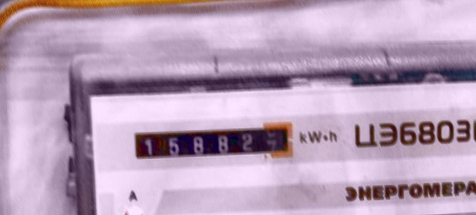1: (142, 136, 154, 155)
2: (241, 132, 253, 151)
5: (167, 135, 179, 155)
7: (266, 138, 277, 152)
8: (192, 134, 204, 155), (217, 133, 229, 154)
screen: (127, 117, 303, 166)
